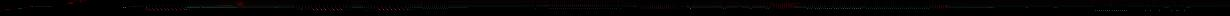Blue cone: (23, 7, 28, 8), (30, 6, 34, 7)
Orange: (769, 3, 798, 9), (932, 5, 951, 9), (233, 2, 248, 6)
